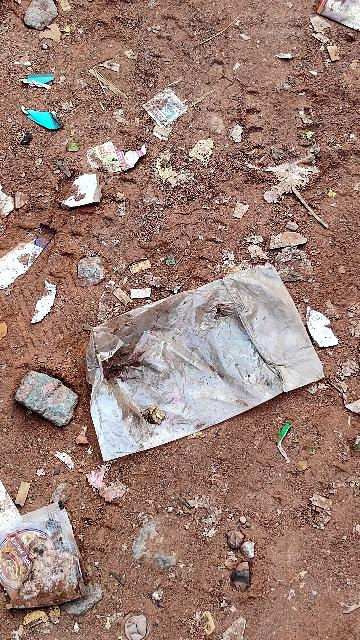polythene: (57, 246, 336, 478)
